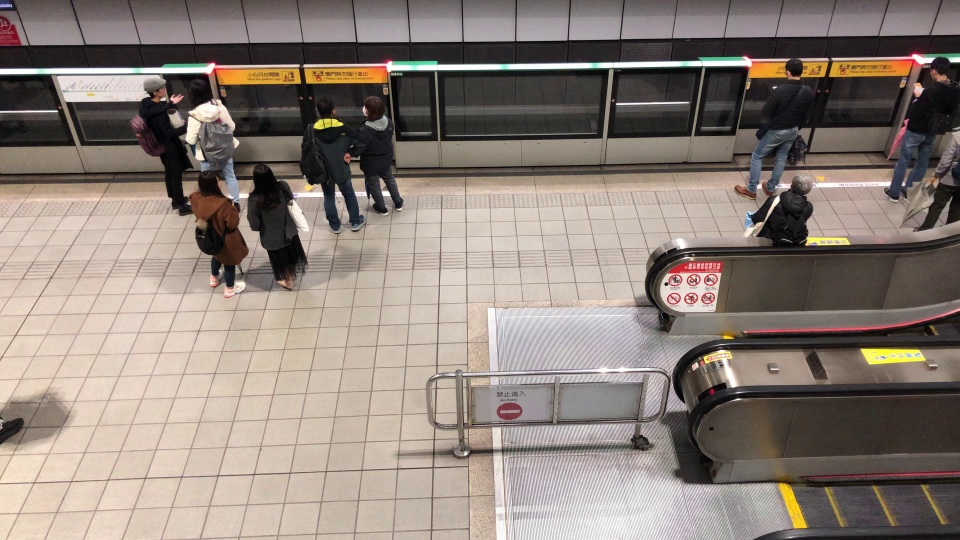person_head: (196, 169, 227, 198), (187, 80, 211, 108), (362, 95, 384, 123), (252, 165, 276, 190), (929, 55, 951, 82), (789, 172, 813, 195), (316, 98, 338, 122), (783, 58, 804, 80), (144, 79, 166, 98), (953, 110, 960, 127)
person_vbox: (732, 57, 814, 197), (882, 55, 960, 202), (125, 79, 194, 215), (298, 98, 367, 233), (242, 166, 313, 293), (182, 168, 250, 297), (181, 80, 242, 210), (351, 95, 405, 216), (910, 109, 960, 239), (740, 172, 814, 248)
